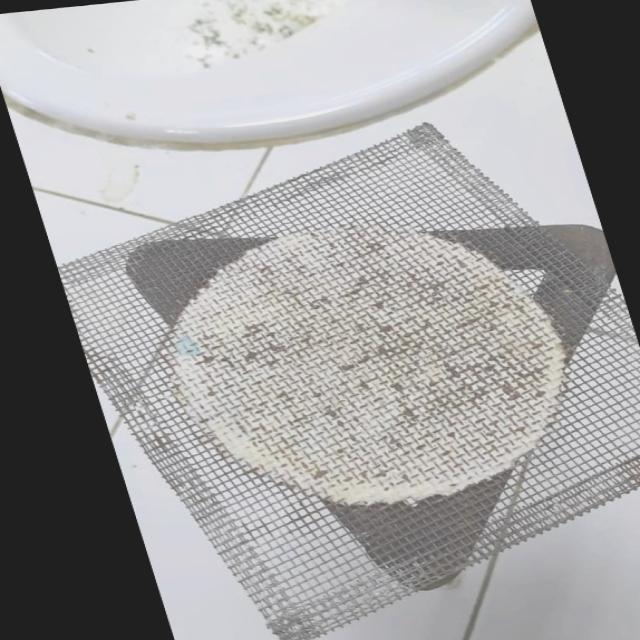Stand: (69, 177, 640, 620)
